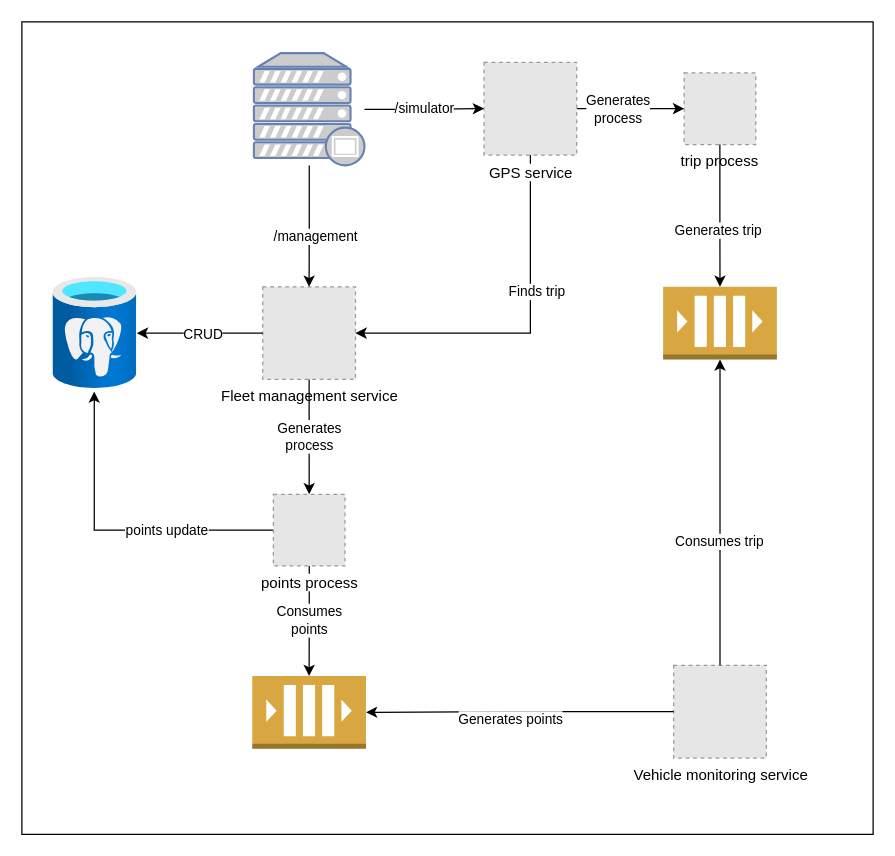
Some shapes in this 895 by 856 pixel diagram are drawn without their labels. Grey dashed boxes stand in for pictures. Here are the shapes that lost their labels. From the top down, the centre of each, then its label:
At (308,108): "Gateway".
At (719,323): "gps_points_queue".
At (308,712): "gps_driver_queue".
